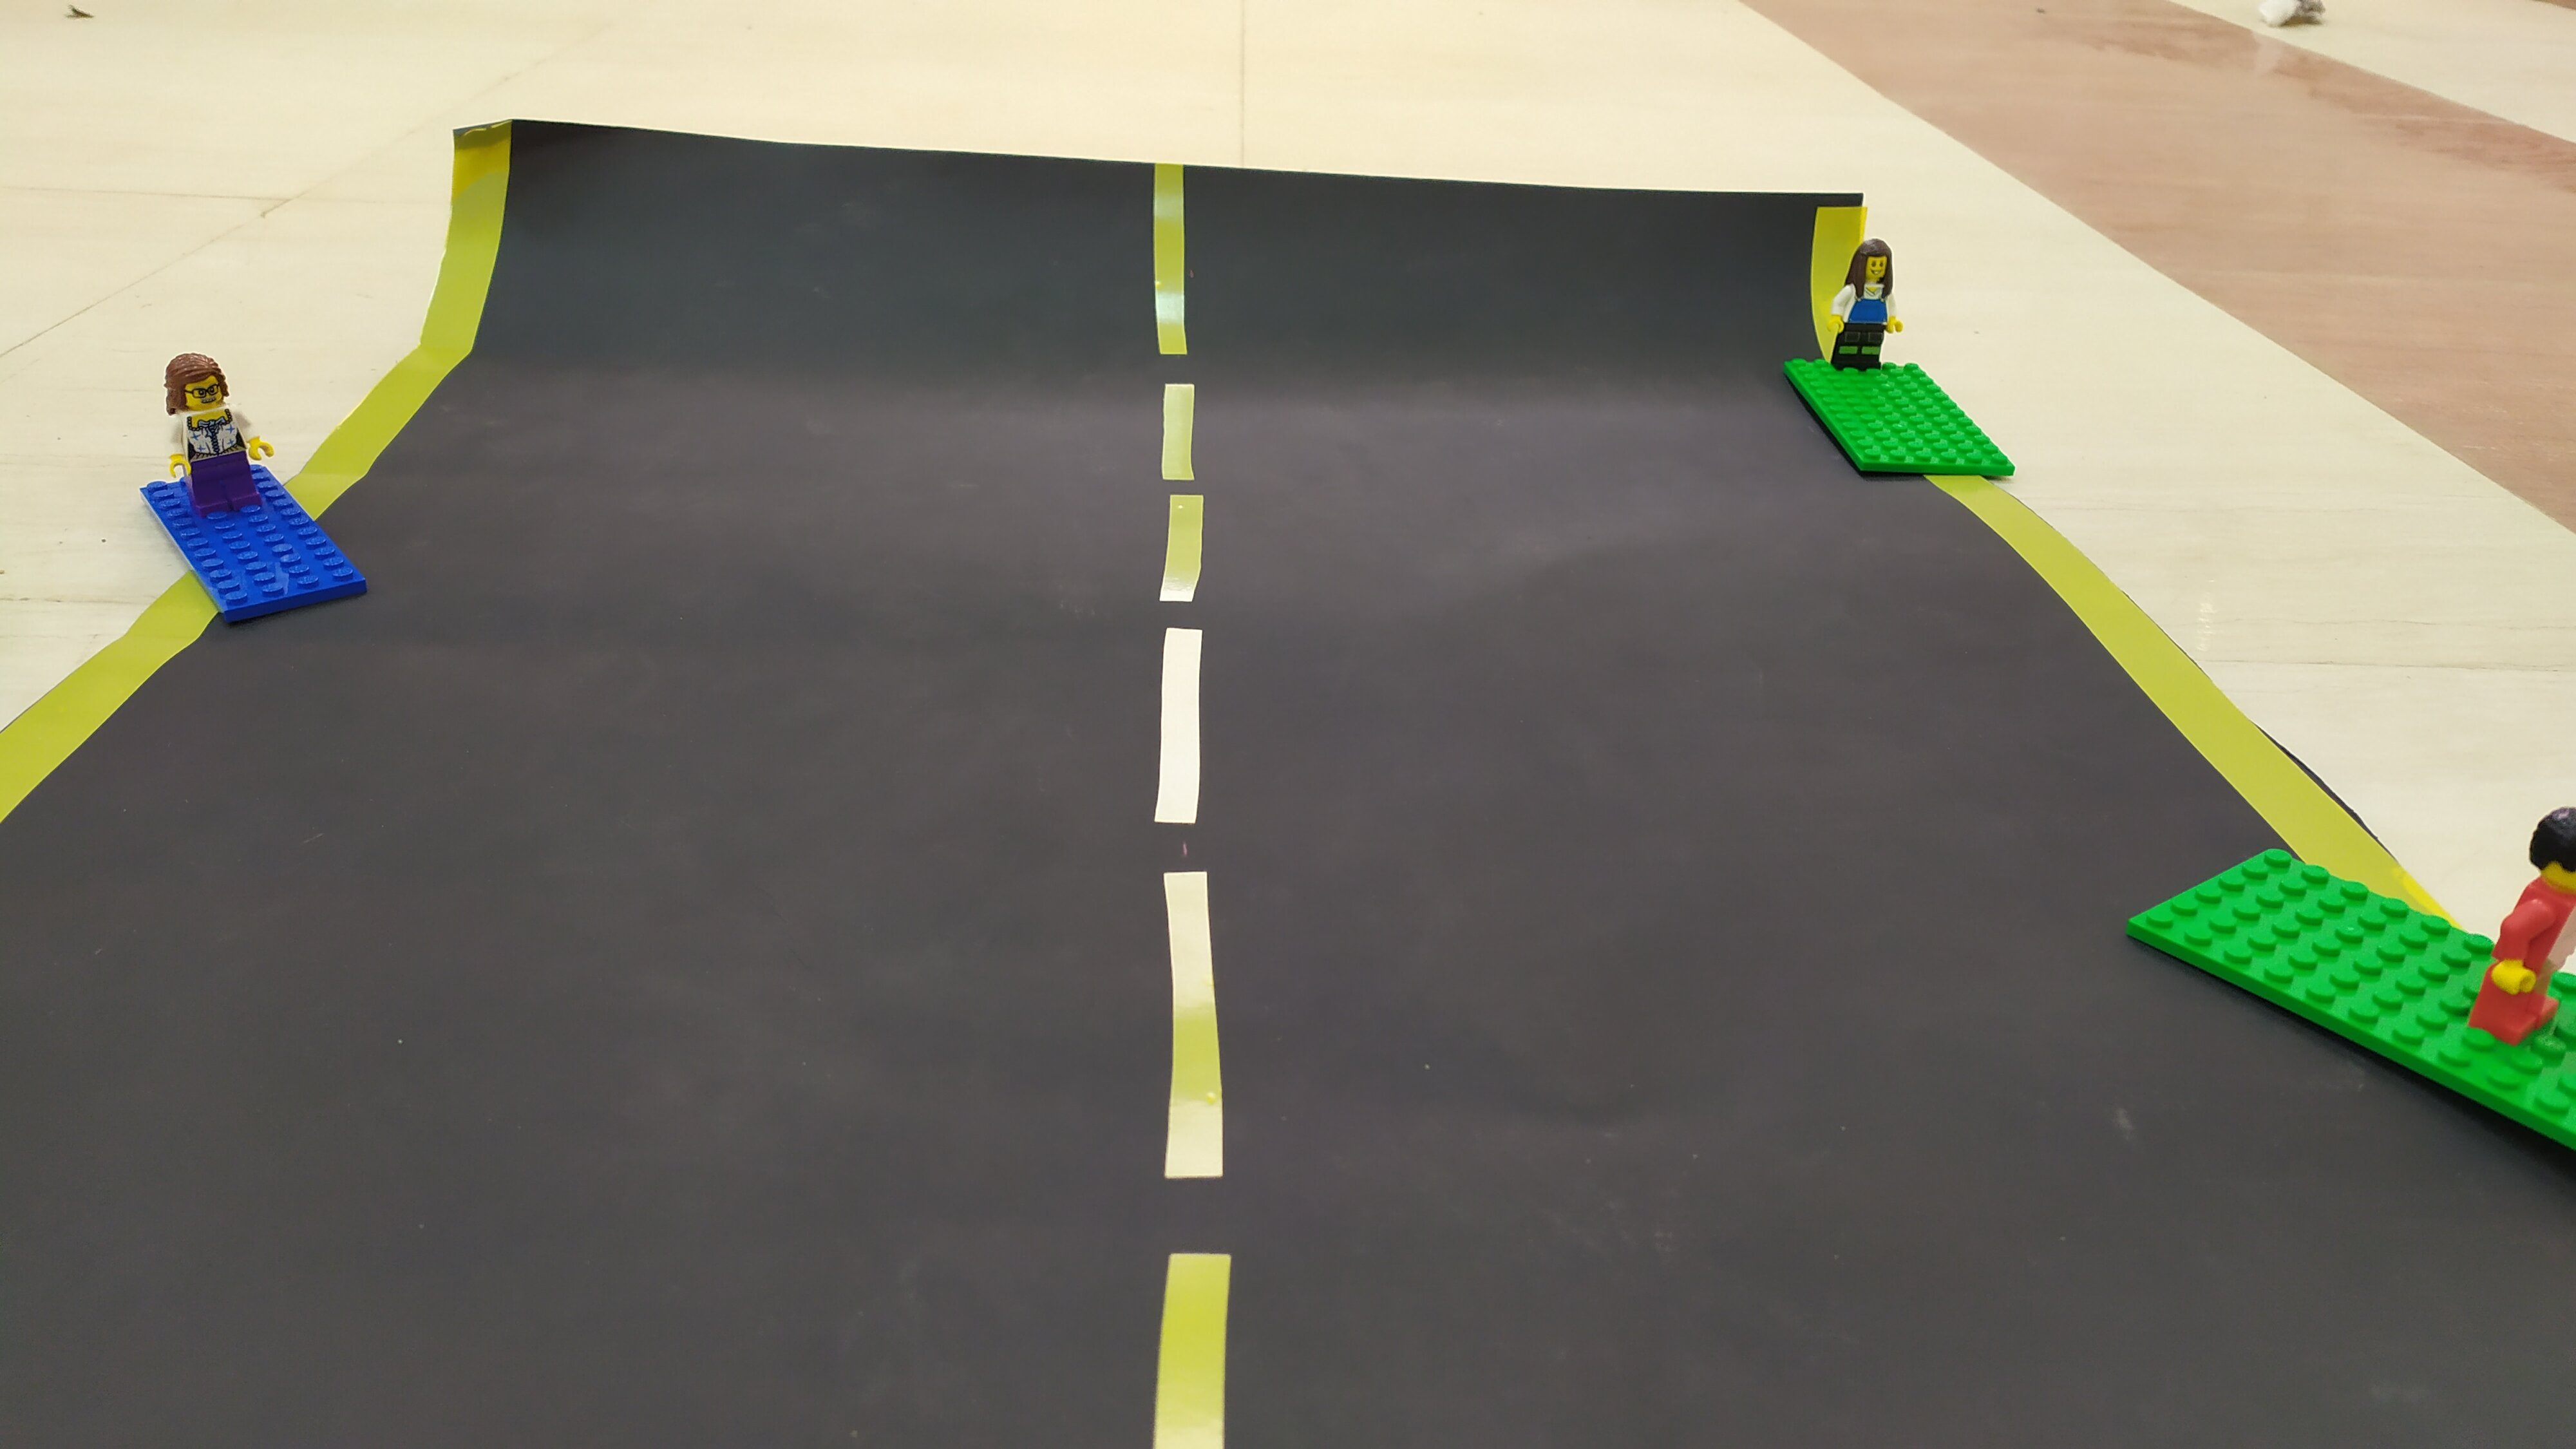person: (2444, 821, 2566, 1034), (145, 338, 261, 518), (1813, 235, 1916, 422)
